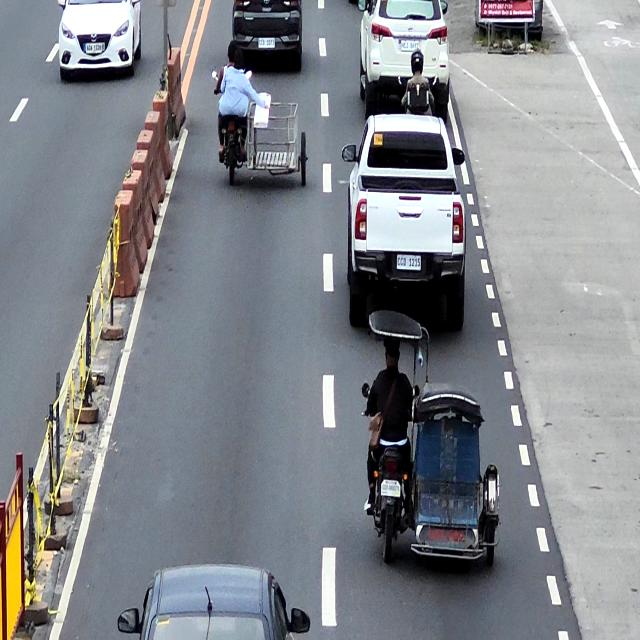Car: (343, 112, 468, 334), (118, 562, 310, 640), (358, 0, 451, 122), (57, 0, 143, 81), (232, 0, 303, 73)
License-Plate: (396, 254, 421, 271), (380, 479, 401, 499), (400, 40, 420, 51), (258, 38, 276, 48), (85, 44, 102, 54)
Tricycle: (361, 311, 501, 566), (212, 70, 309, 187)
